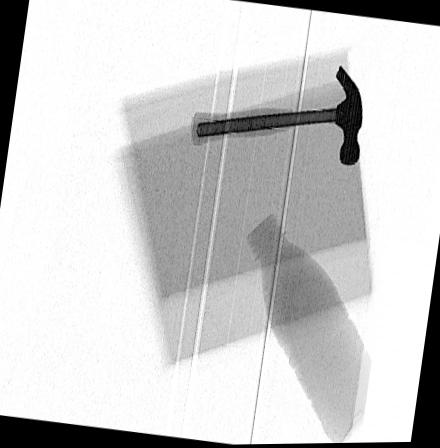Hammer: (189, 64, 362, 168)
